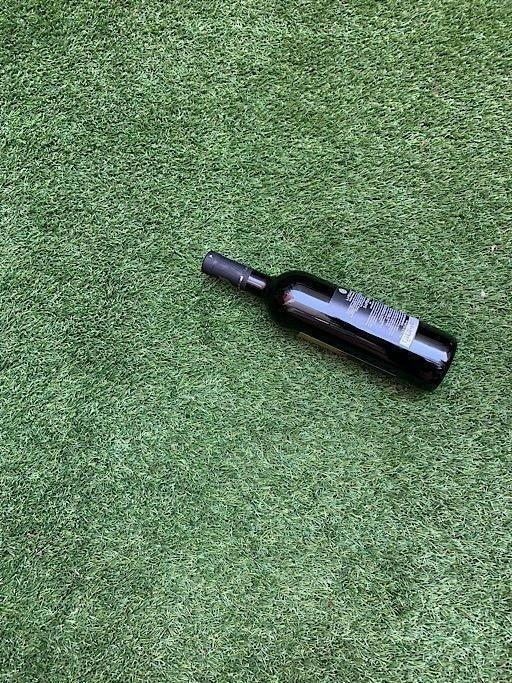bottle-glass: (199, 246, 464, 401)
